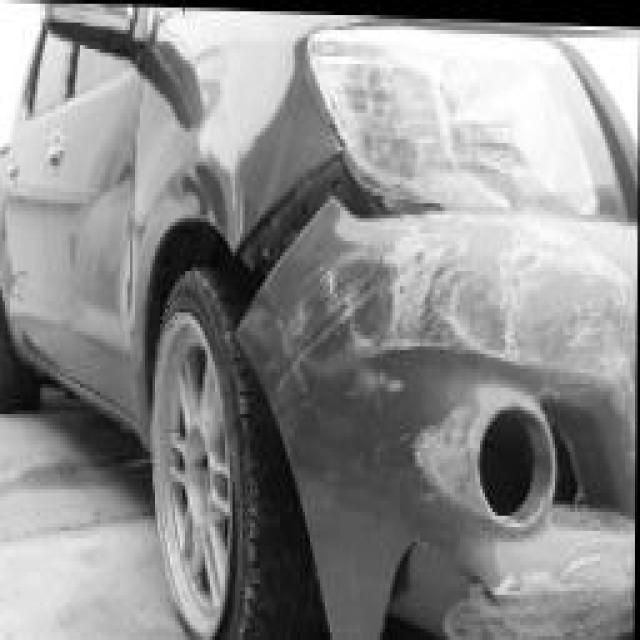Bumper: (228, 155, 636, 640)
